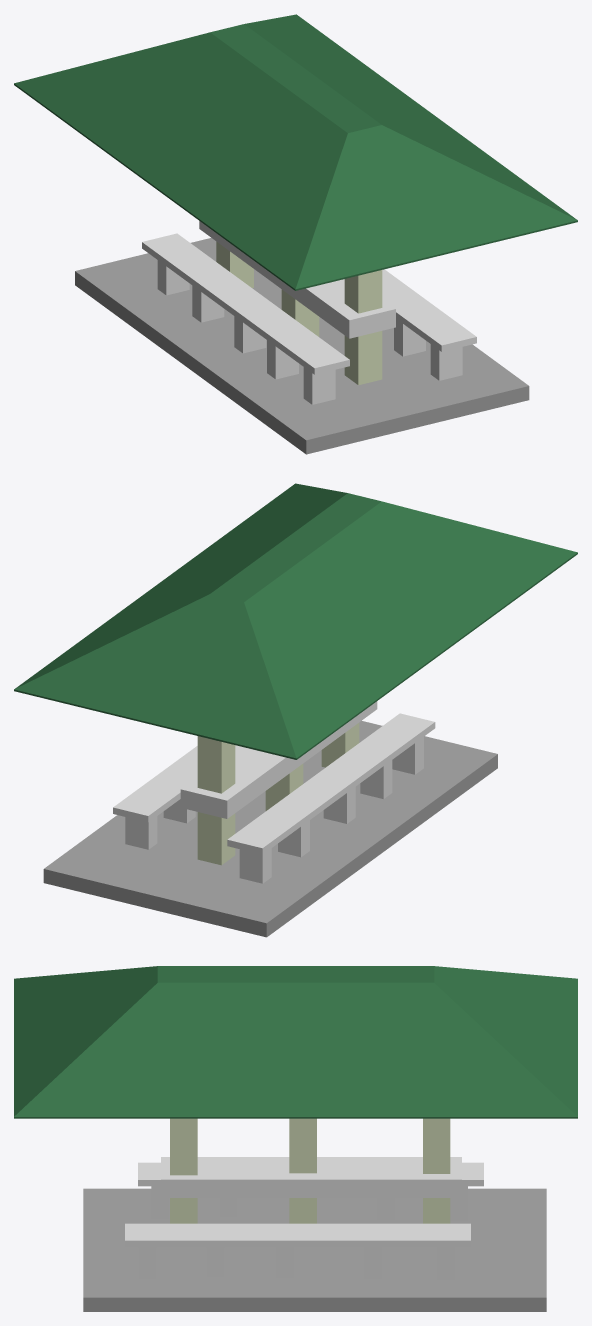
File: BSED_Shed_Long_FIN.glb
The picture shows the model from 3 angles, top to bottom: view 1: azimuth 30°, elevation 25°; view 2: azimuth 150°, elevation 25°; view 3: azimuth 270°, elevation 25°; orthographic projection.
Visible parts, largest first — view 1: Cube.002, Cube, Cube.003, Cube.004, Cube.005, Cube.001; view 2: Cube.002, Cube, Cube.003, Cube.005, Cube.001, Cube.004; view 3: Cube.002, Cube, Cube.004, Cube.001, Cube.005, Cube.003.
Part boxes in pixels (box(x1,y1,x2,y2)): Cube.002: box(14, 14, 577, 290); Cube: box(75, 238, 529, 454); Cube.003: box(142, 233, 349, 404); Cube.004: box(382, 269, 476, 380); Cube.005: box(216, 241, 382, 385); Cube.001: box(199, 221, 395, 338); Cube.002: box(14, 483, 577, 759); Cube: box(43, 720, 497, 937); Cube.003: box(227, 713, 435, 883); Cube.005: box(197, 723, 359, 865); Cube.001: box(180, 701, 377, 818); Cube.004: box(113, 745, 239, 849); Cube.002: box(14, 966, 577, 1118); Cube: box(83, 1188, 546, 1311); Cube.004: box(125, 1223, 470, 1280); Cube.001: box(161, 1157, 461, 1197); Cube.005: box(170, 1118, 450, 1223); Cube.003: box(138, 1162, 483, 1220).
Bounding box in the file's own units: 5.73 × 5.37 × 9.88.
